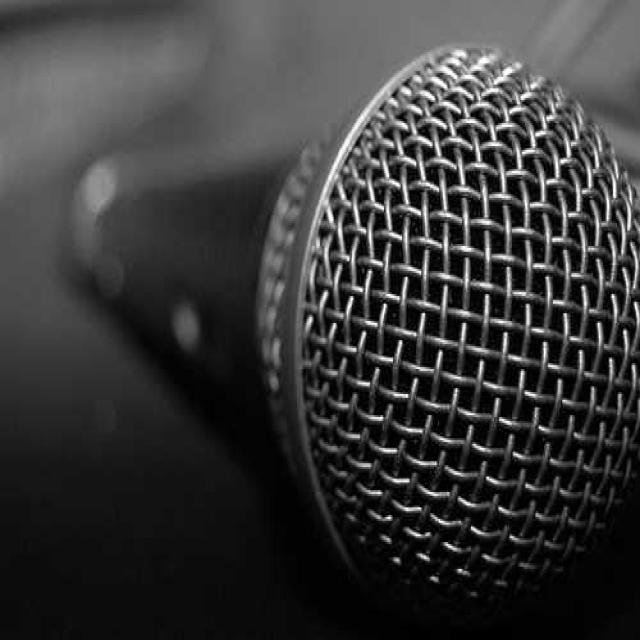microphone: (73, 44, 635, 620)
